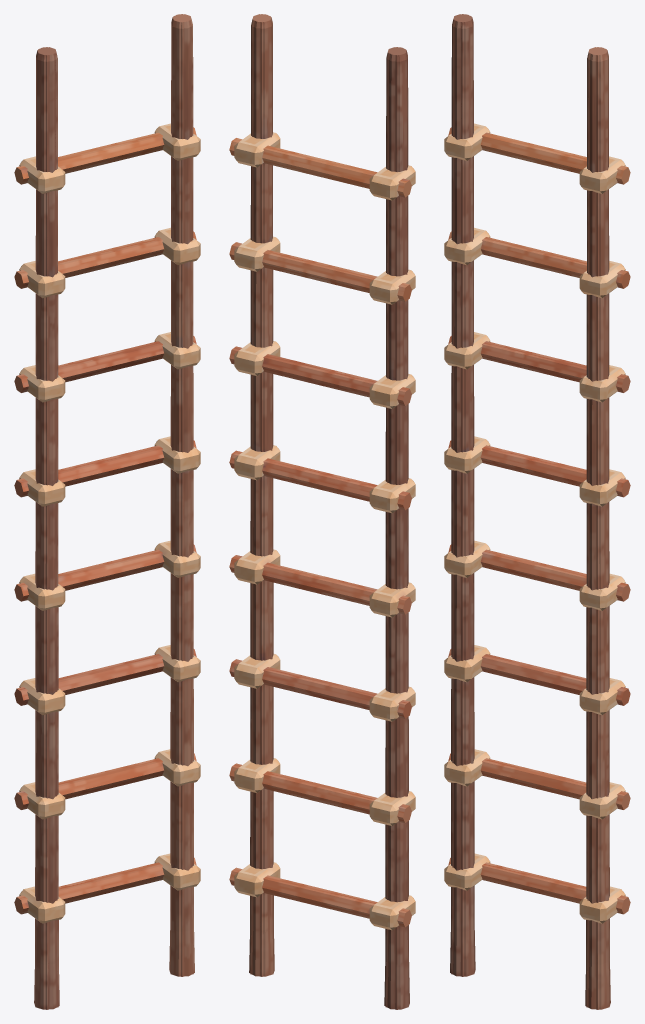
File: ladder.bundle.fbx
3 views of the same model, side by side, from view 1: azimuth 30°, elevation 25°; view 2: azimuth 150°, elevation 25°; view 3: azimuth 330°, elevation 25° (orthographic).
Parts seen in each view (by area): view 1: ladder, ladder_low, ladder_s00, ladder_s01, ladder_s03, ladder_s04, ladder_s02; view 2: ladder, ladder_low, ladder_s00, ladder_s03, ladder_s01, ladder_s04, ladder_s02; view 3: ladder, ladder_low, ladder_s00, ladder_s01, ladder_s03, ladder_s02, ladder_s04.
Boxes of the visible parts, left/top/right/bottom form: ladder: left=14, top=14, right=200, bottom=1009; ladder_low: left=38, top=14, right=193, bottom=1009; ladder_s00: left=17, top=326, right=195, bottom=640; ladder_s01: left=17, top=742, right=158, bottom=964; ladder_s03: left=18, top=27, right=192, bottom=392; ladder_s04: left=22, top=591, right=192, bottom=752; ladder_s02: left=122, top=752, right=195, bottom=931; ladder: left=229, top=14, right=415, bottom=1009; ladder_low: left=250, top=14, right=405, bottom=1009; ladder_s00: left=230, top=325, right=400, bottom=633; ladder_s03: left=252, top=28, right=408, bottom=405; ladder_s01: left=268, top=744, right=406, bottom=963; ladder_s04: left=251, top=602, right=409, bottom=758; ladder_s02: left=230, top=756, right=303, bottom=931; ladder: left=444, top=14, right=630, bottom=1009; ladder_low: left=451, top=14, right=606, bottom=1009; ladder_s00: left=450, top=352, right=627, bottom=676; ladder_s01: left=448, top=707, right=586, bottom=931; ladder_s03: left=450, top=29, right=598, bottom=360; ladder_s02: left=551, top=787, right=627, bottom=964; ladder_s04: left=449, top=549, right=599, bottom=788.
Bounding box in the file's own units: 2.44 × 12.8 × 0.58.
Materials: 1 (1 with a texture image).
